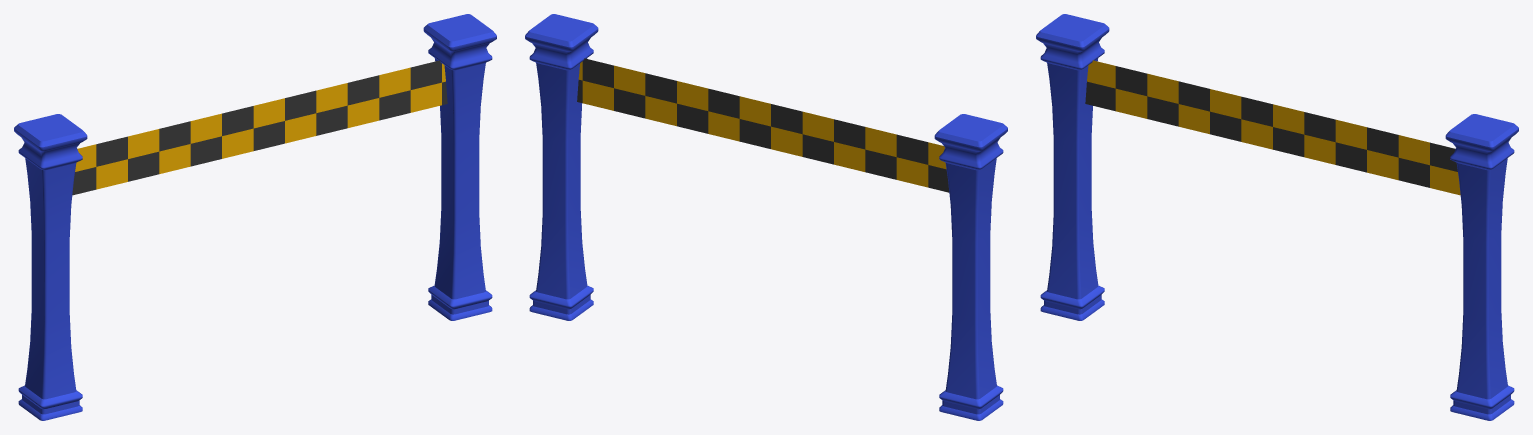
Rendered from Finish.fbx.
The picture shows the model from 3 angles, left to right: view 1: azimuth 30°, elevation 25°; view 2: azimuth 150°, elevation 25°; view 3: azimuth 330°, elevation 25°; orthographic projection.
Parts seen in each view (by area): view 1: Finish; view 2: Finish; view 3: Finish.
Part boxes in pixels (x1,y1,x2,y2): Finish: [14, 14, 496, 420]; Finish: [525, 14, 1007, 420]; Finish: [1036, 14, 1518, 420].
Size of the model in its own units: 796 by 465 by 83.96.
